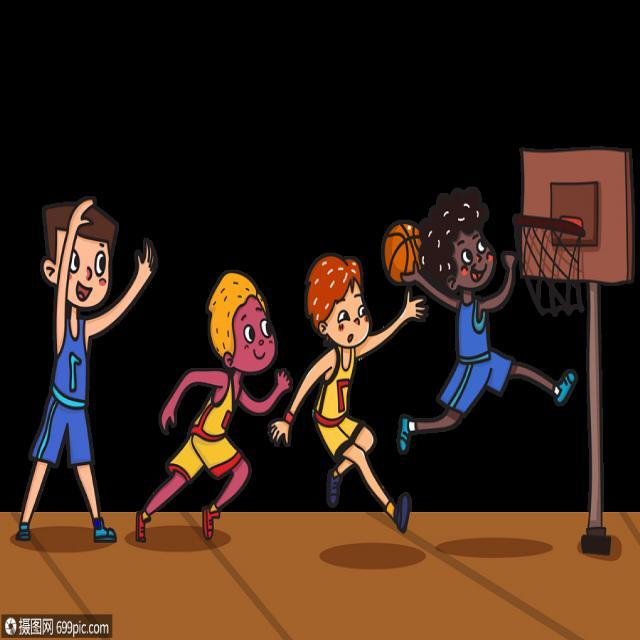rim: (386, 220, 424, 282)
